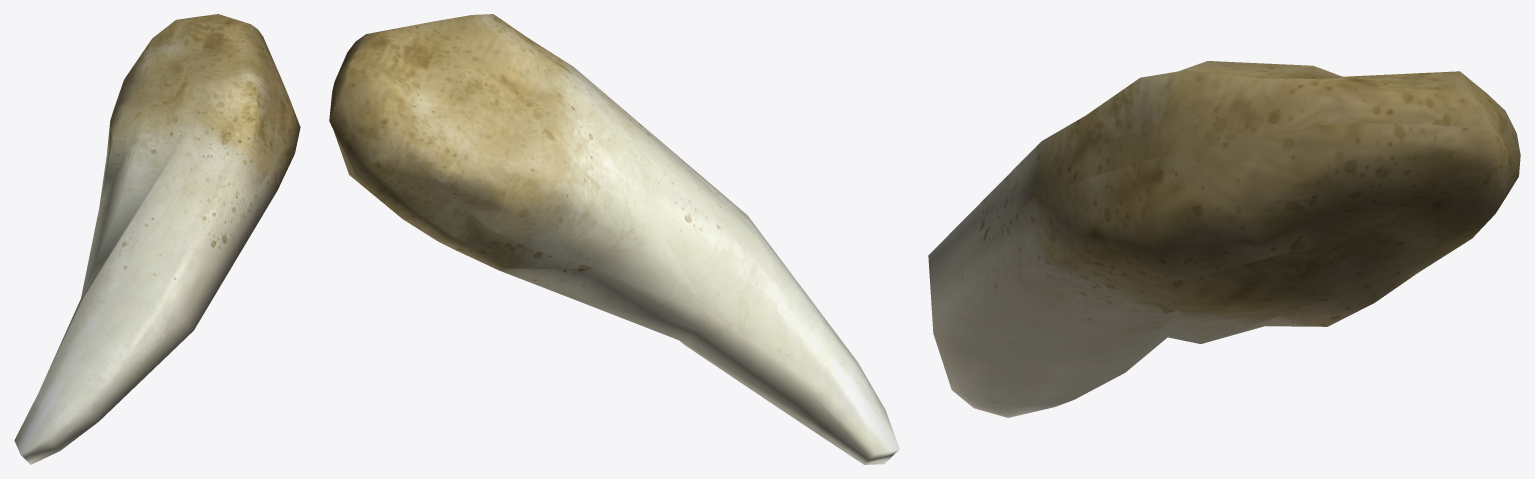
The model's file is fang.fbx.
3 renders of one model, left to right at view 1: azimuth 30°, elevation 25°; view 2: azimuth 150°, elevation 25°; view 3: azimuth 270°, elevation 25°, orthographic. The views are drawn at different scales.
Parts seen in each view (by area): view 1: pPlane1; view 2: pPlane1; view 3: pPlane1.
Boxes of the visible parts, left/top/right/bottom form: pPlane1: left=14, top=14, right=300, bottom=464; pPlane1: left=329, top=14, right=899, bottom=464; pPlane1: left=928, top=61, right=1520, bottom=417.
Bounding box in the file's own units: 0.5718 × 0.518 × 0.4474.
1 material, 1 textured.
